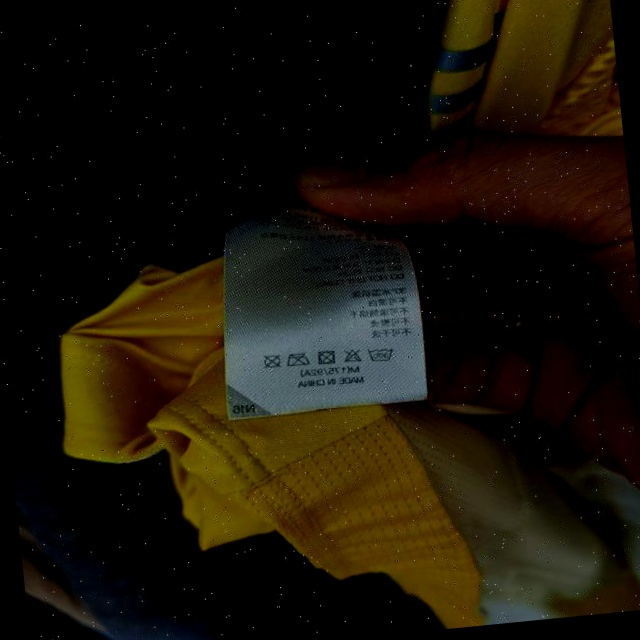30C: (366, 344, 396, 366)
DN_bleach: (340, 347, 362, 364)
DN_dry_clean: (260, 352, 283, 371)
DN_iron: (285, 349, 313, 370)
DN_tumble_dry: (315, 349, 337, 368)
